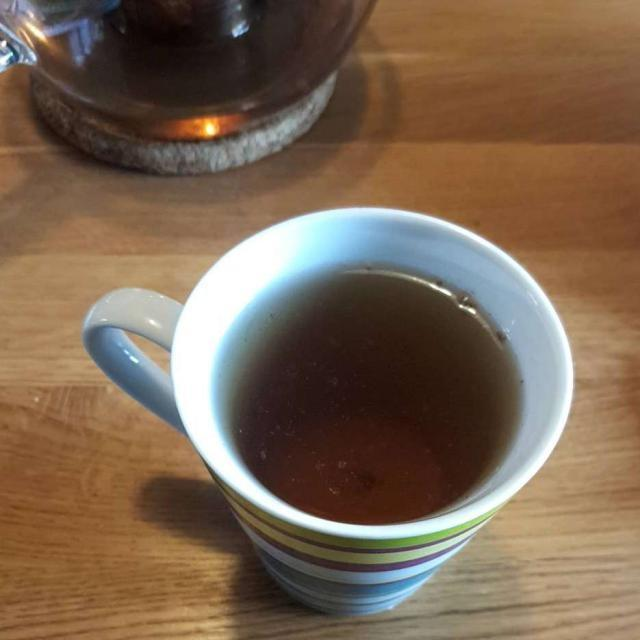tea: (236, 273, 514, 518)
